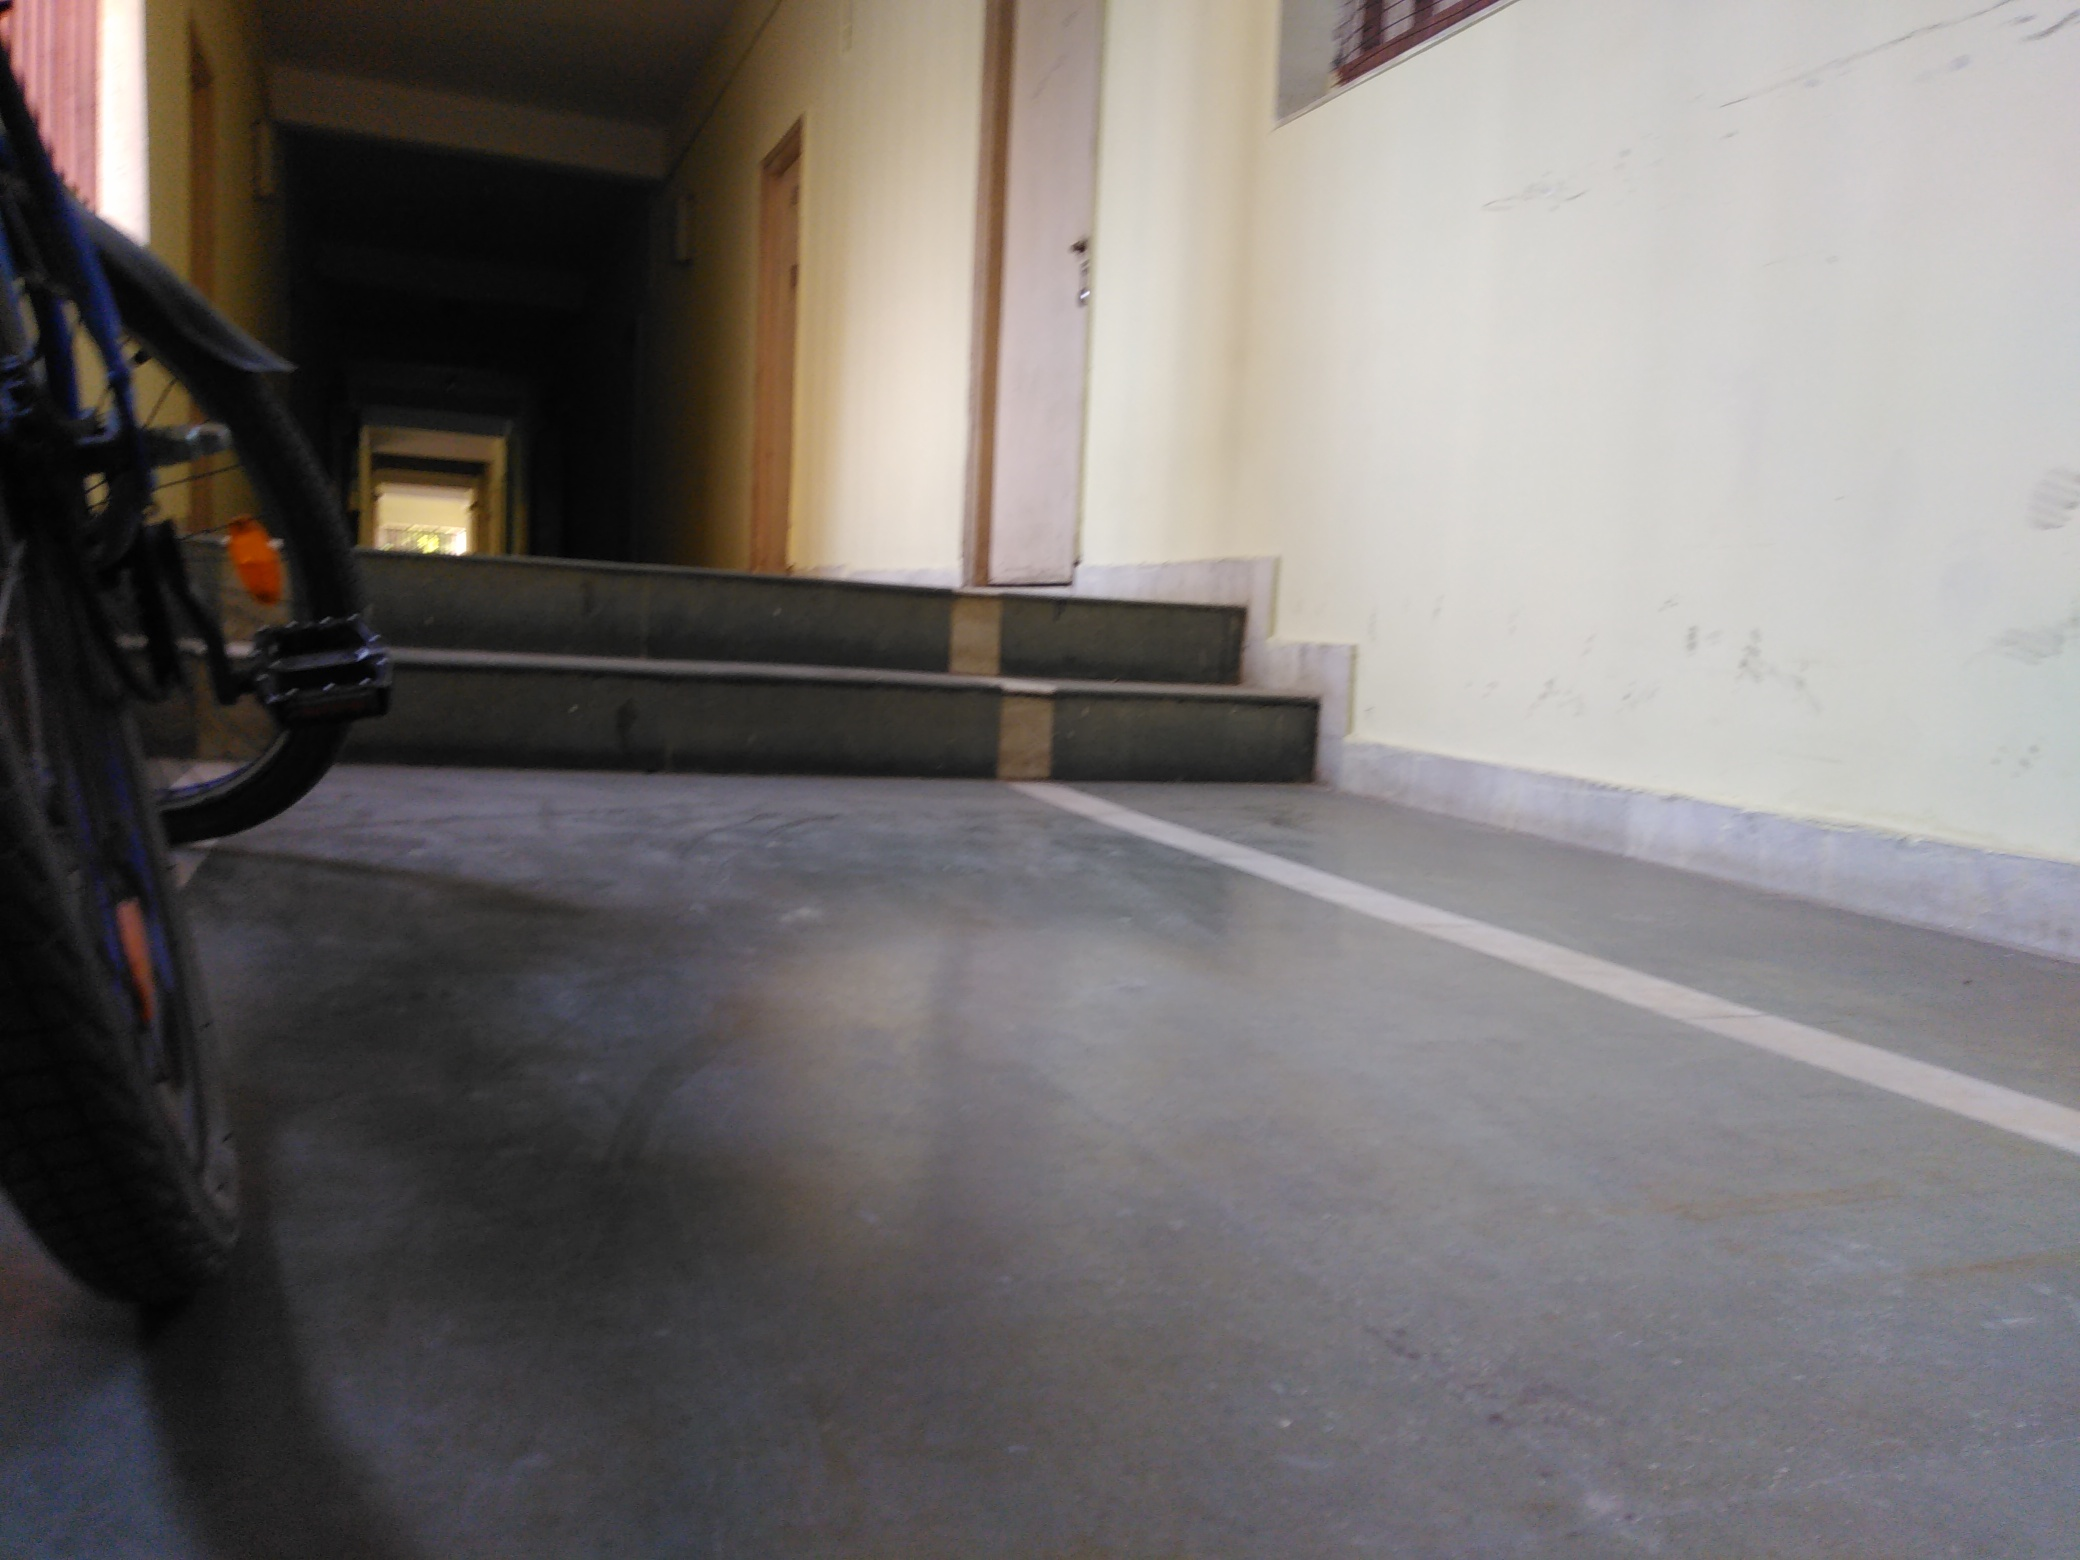stairs_up: (360, 542, 1295, 805)
